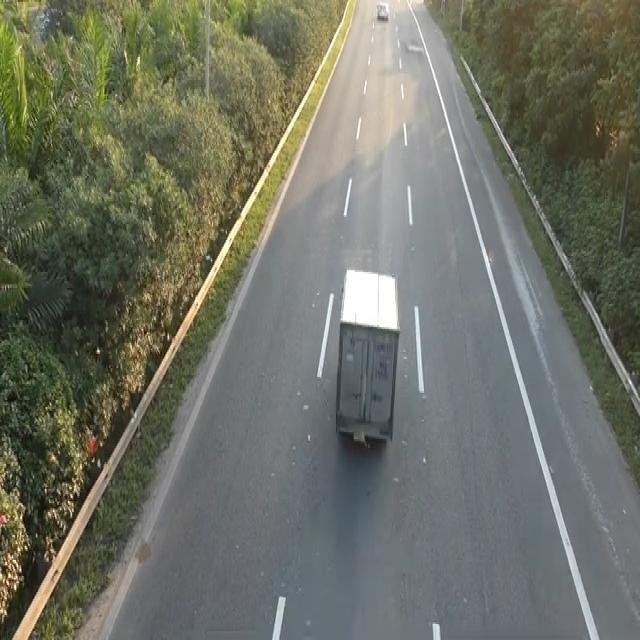minivan: (333, 263, 402, 450)
